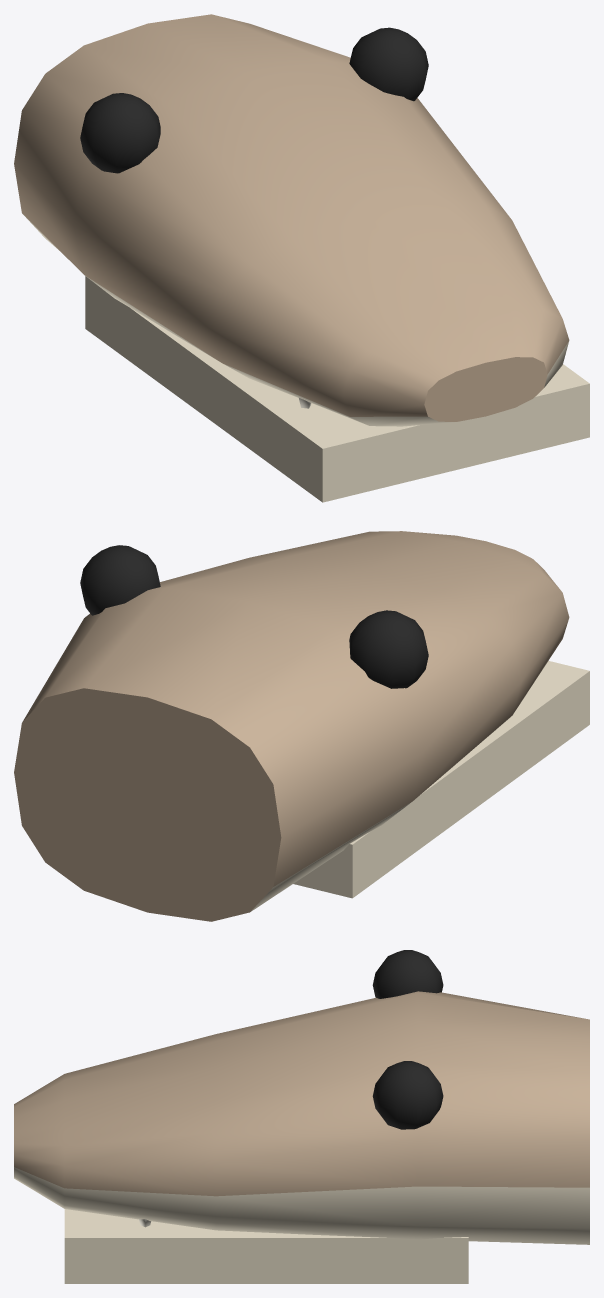
File: cr_head_c.fbx
3 views of the same model, one above another, from view 1: azimuth 30°, elevation 25°; view 2: azimuth 150°, elevation 25°; view 3: azimuth 270°, elevation 25° (orthographic). The views are drawn at different scales.
Parts seen in each view (by area): view 1: Head; view 2: Head; view 3: Head.
Part boxes in pixels (x1,y1,x2,y2): Head: [14, 14, 589, 502]; Head: [14, 531, 589, 921]; Head: [14, 950, 589, 1283].
Size of the model in its own units: 0.34 by 0.24 by 0.57.
